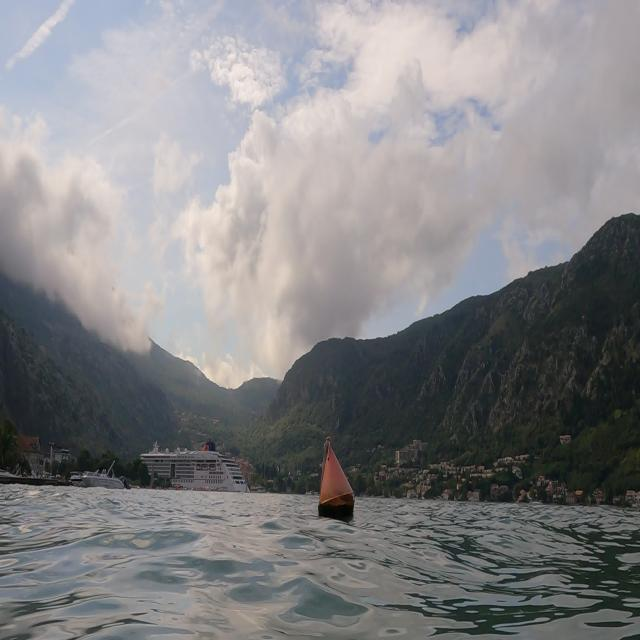boat: (140, 434, 252, 502), (66, 454, 135, 499)
buoy: (311, 430, 360, 536)
